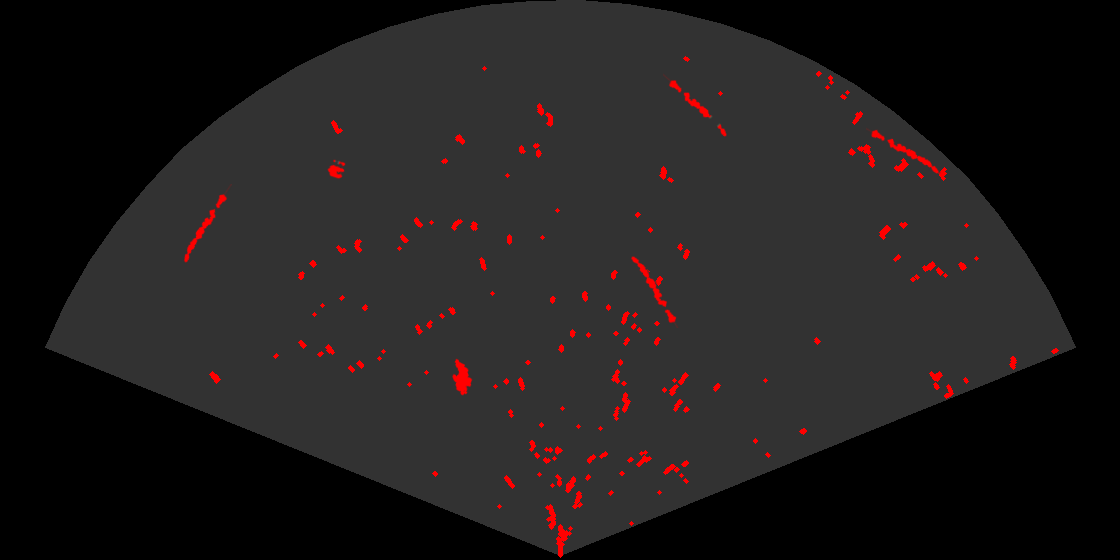AUV: (451, 357, 474, 397)
ball: (326, 158, 347, 180)
chain: (663, 72, 728, 138), (182, 184, 232, 264), (866, 126, 941, 175), (630, 255, 680, 328)
